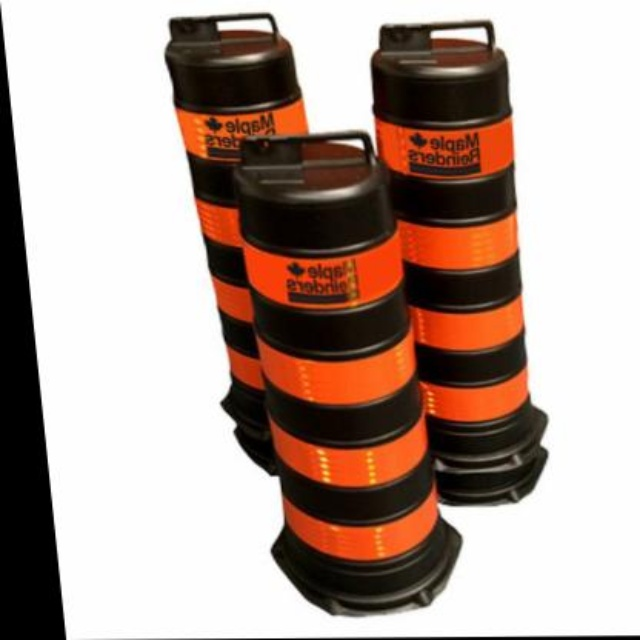obstacle: (226, 141, 450, 586), (380, 46, 554, 477)
